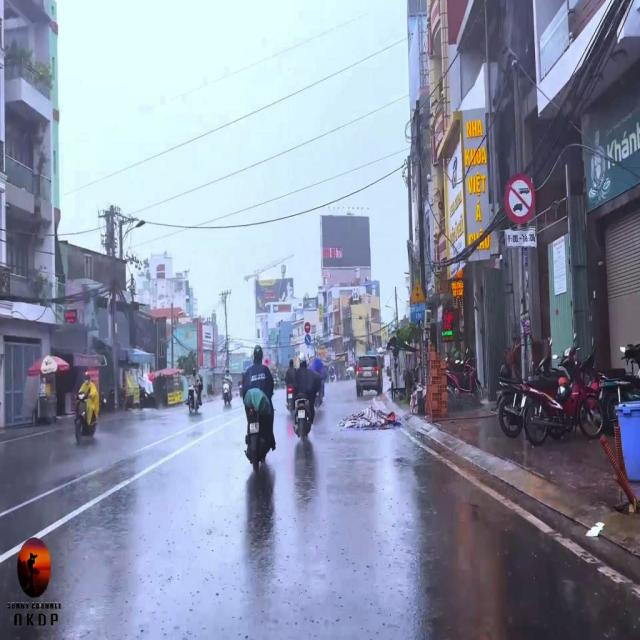cam_o_to_tai_va_xe_khach: (502, 172, 534, 225)
cam_xe_di_nguoc_chieu: (305, 322, 311, 332)
huong_phai_di_vuot_chuong_ngai_vat_phai: (305, 334, 311, 345)
khac: (505, 227, 537, 248), (409, 275, 426, 303)
